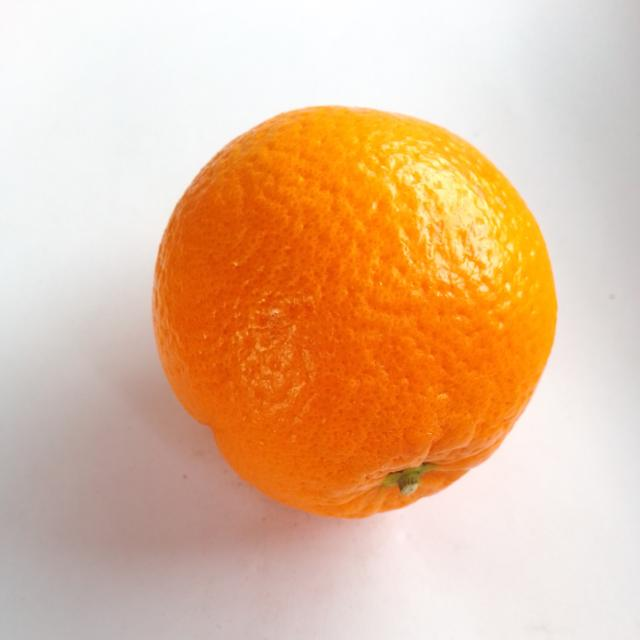orange: (154, 108, 556, 517)
